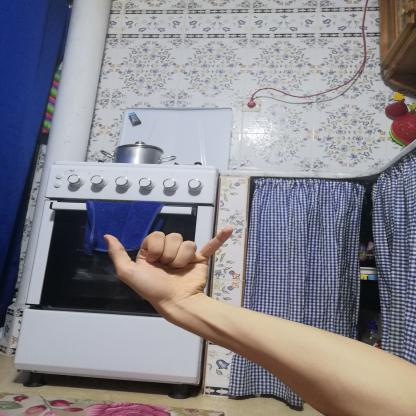YA: (95, 221, 243, 313)
